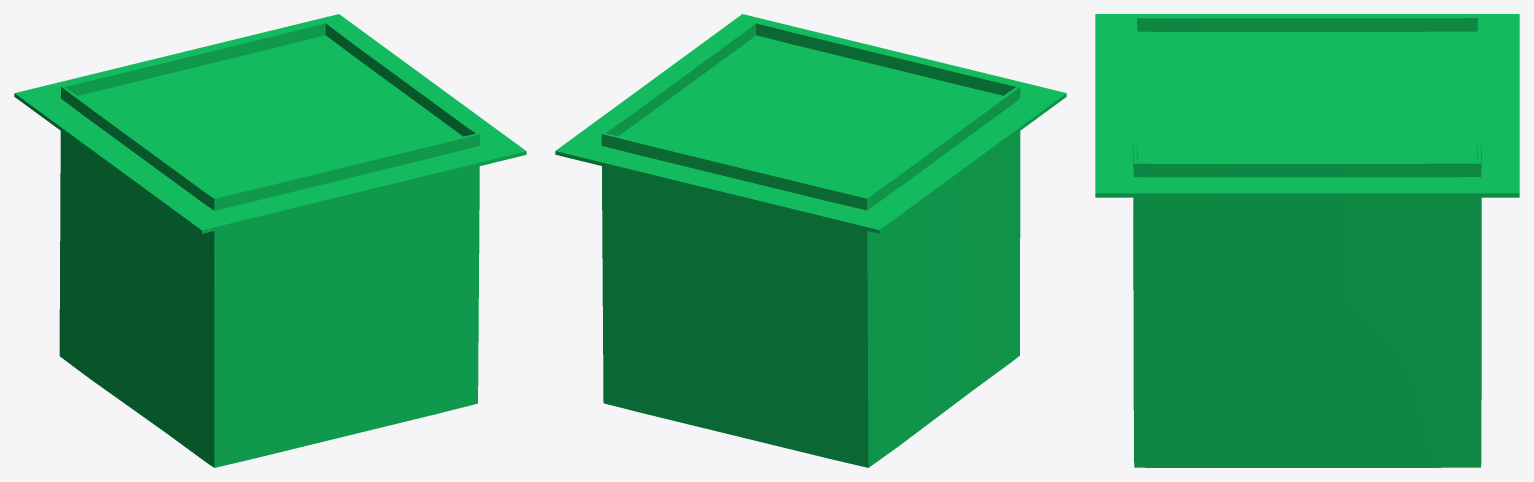
Rendered from ROOM1_hantei.fbx.
The picture shows the model from 3 angles, left to right: view 1: azimuth 30°, elevation 25°; view 2: azimuth 150°, elevation 25°; view 3: azimuth 270°, elevation 25°; orthographic projection. The views are drawn at different scales.
Parts seen in each view (by area): view 1: main; view 2: main; view 3: main.
Boxes of the visible parts, left/top/right/bottom form: main: left=14, top=14, right=526, bottom=467; main: left=555, top=14, right=1066, bottom=467; main: left=1095, top=14, right=1519, bottom=467.
Size of the model in its own units: 4662 by 3706 by 4662.
